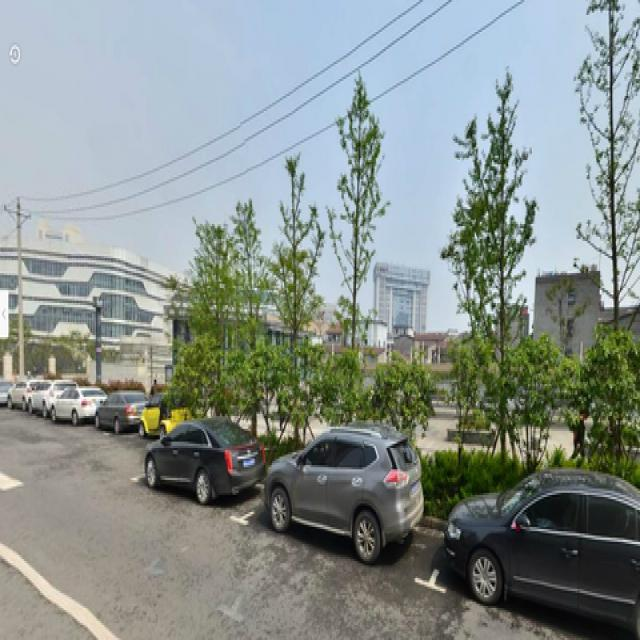gink: (453, 90, 528, 401), (336, 70, 389, 360), (268, 152, 325, 356)
